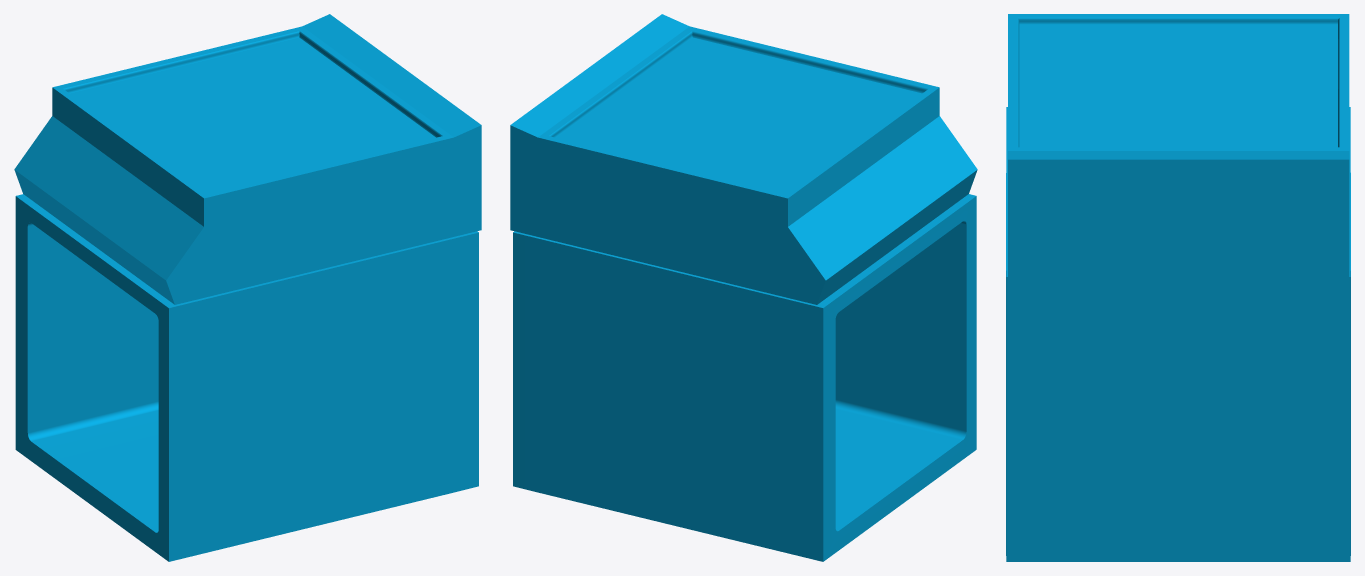
The model's file is Restaurant_Gas_Stove_Lod2.fbx.
3 views of the same model, side by side, from view 1: azimuth 30°, elevation 25°; view 2: azimuth 150°, elevation 25°; view 3: azimuth 270°, elevation 25° (orthographic). The views are drawn at different scales.
Parts seen in each view (by area): view 1: Restaurant_Gas_Stove_Lod2; view 2: Restaurant_Gas_Stove_Lod2; view 3: Restaurant_Gas_Stove_Lod2.
Part boxes in pixels (x1=…): Restaurant_Gas_Stove_Lod2: x1=14, y1=14, x2=481, y2=561; Restaurant_Gas_Stove_Lod2: x1=510, y1=14, x2=977, y2=561; Restaurant_Gas_Stove_Lod2: x1=1006, y1=14, x2=1350, y2=561.
Size of the model in its own units: 69.61 by 75.86 by 58.65.
